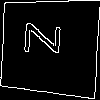Z: (24, 22, 70, 56)
